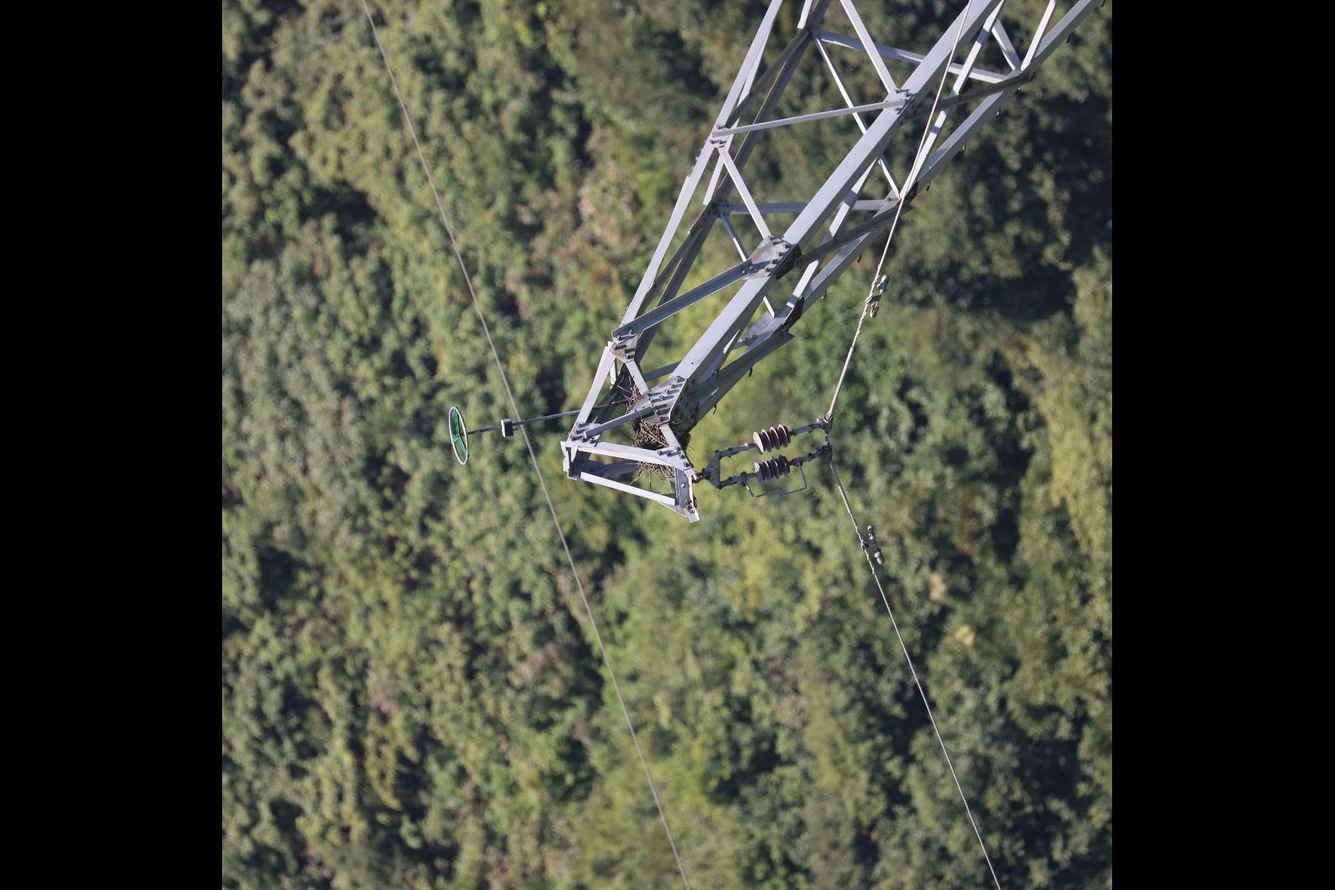damper: (865, 271, 894, 321), (860, 522, 887, 568)
nest: (628, 417, 674, 483)
